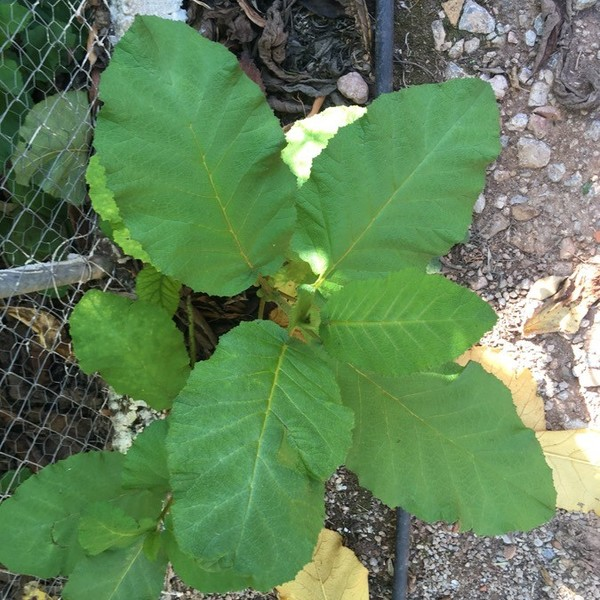obstacle: (95, 20, 564, 543)
